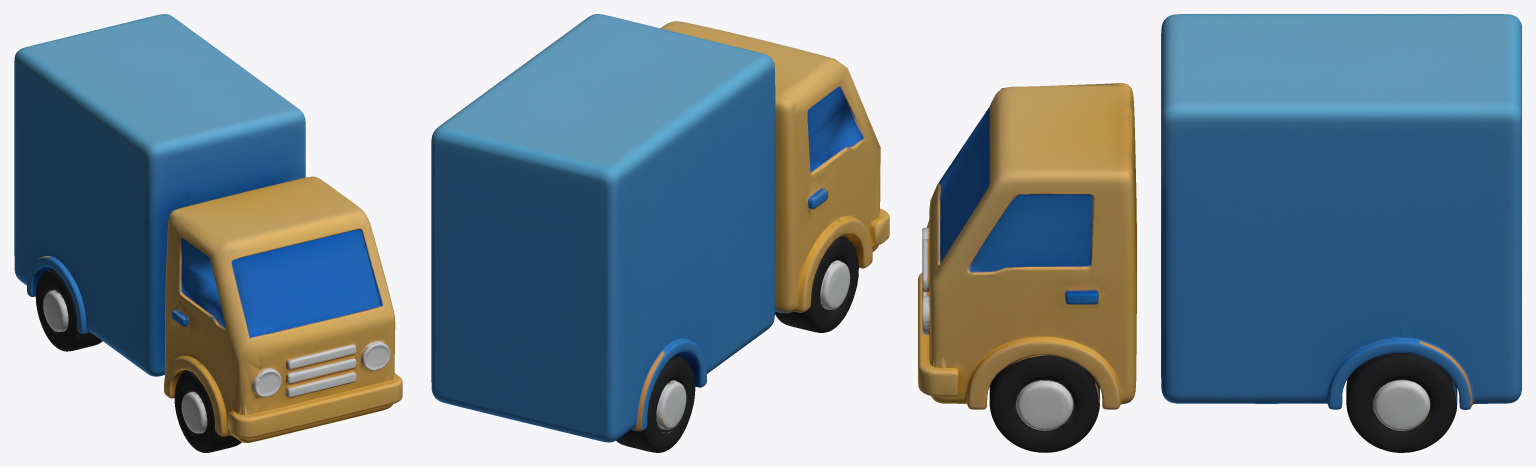
File: truck3.glb
The picture shows the model from 3 angles, left to right: view 1: azimuth 30°, elevation 25°; view 2: azimuth 150°, elevation 25°; view 3: azimuth 270°, elevation 25°; orthographic projection. The views are drawn at different scales.
Visible parts, largest first — view 1: texture_pbr_v128; view 2: texture_pbr_v128; view 3: texture_pbr_v128.
Part boxes in pixels (box(x1,y1,x2,y2)): texture_pbr_v128: box(14, 14, 402, 452); texture_pbr_v128: box(431, 14, 889, 452); texture_pbr_v128: box(918, 14, 1521, 452).
Bounding box in the file's own units: 0.3065 × 0.4652 × 0.7369.
1 material, 1 textured.
